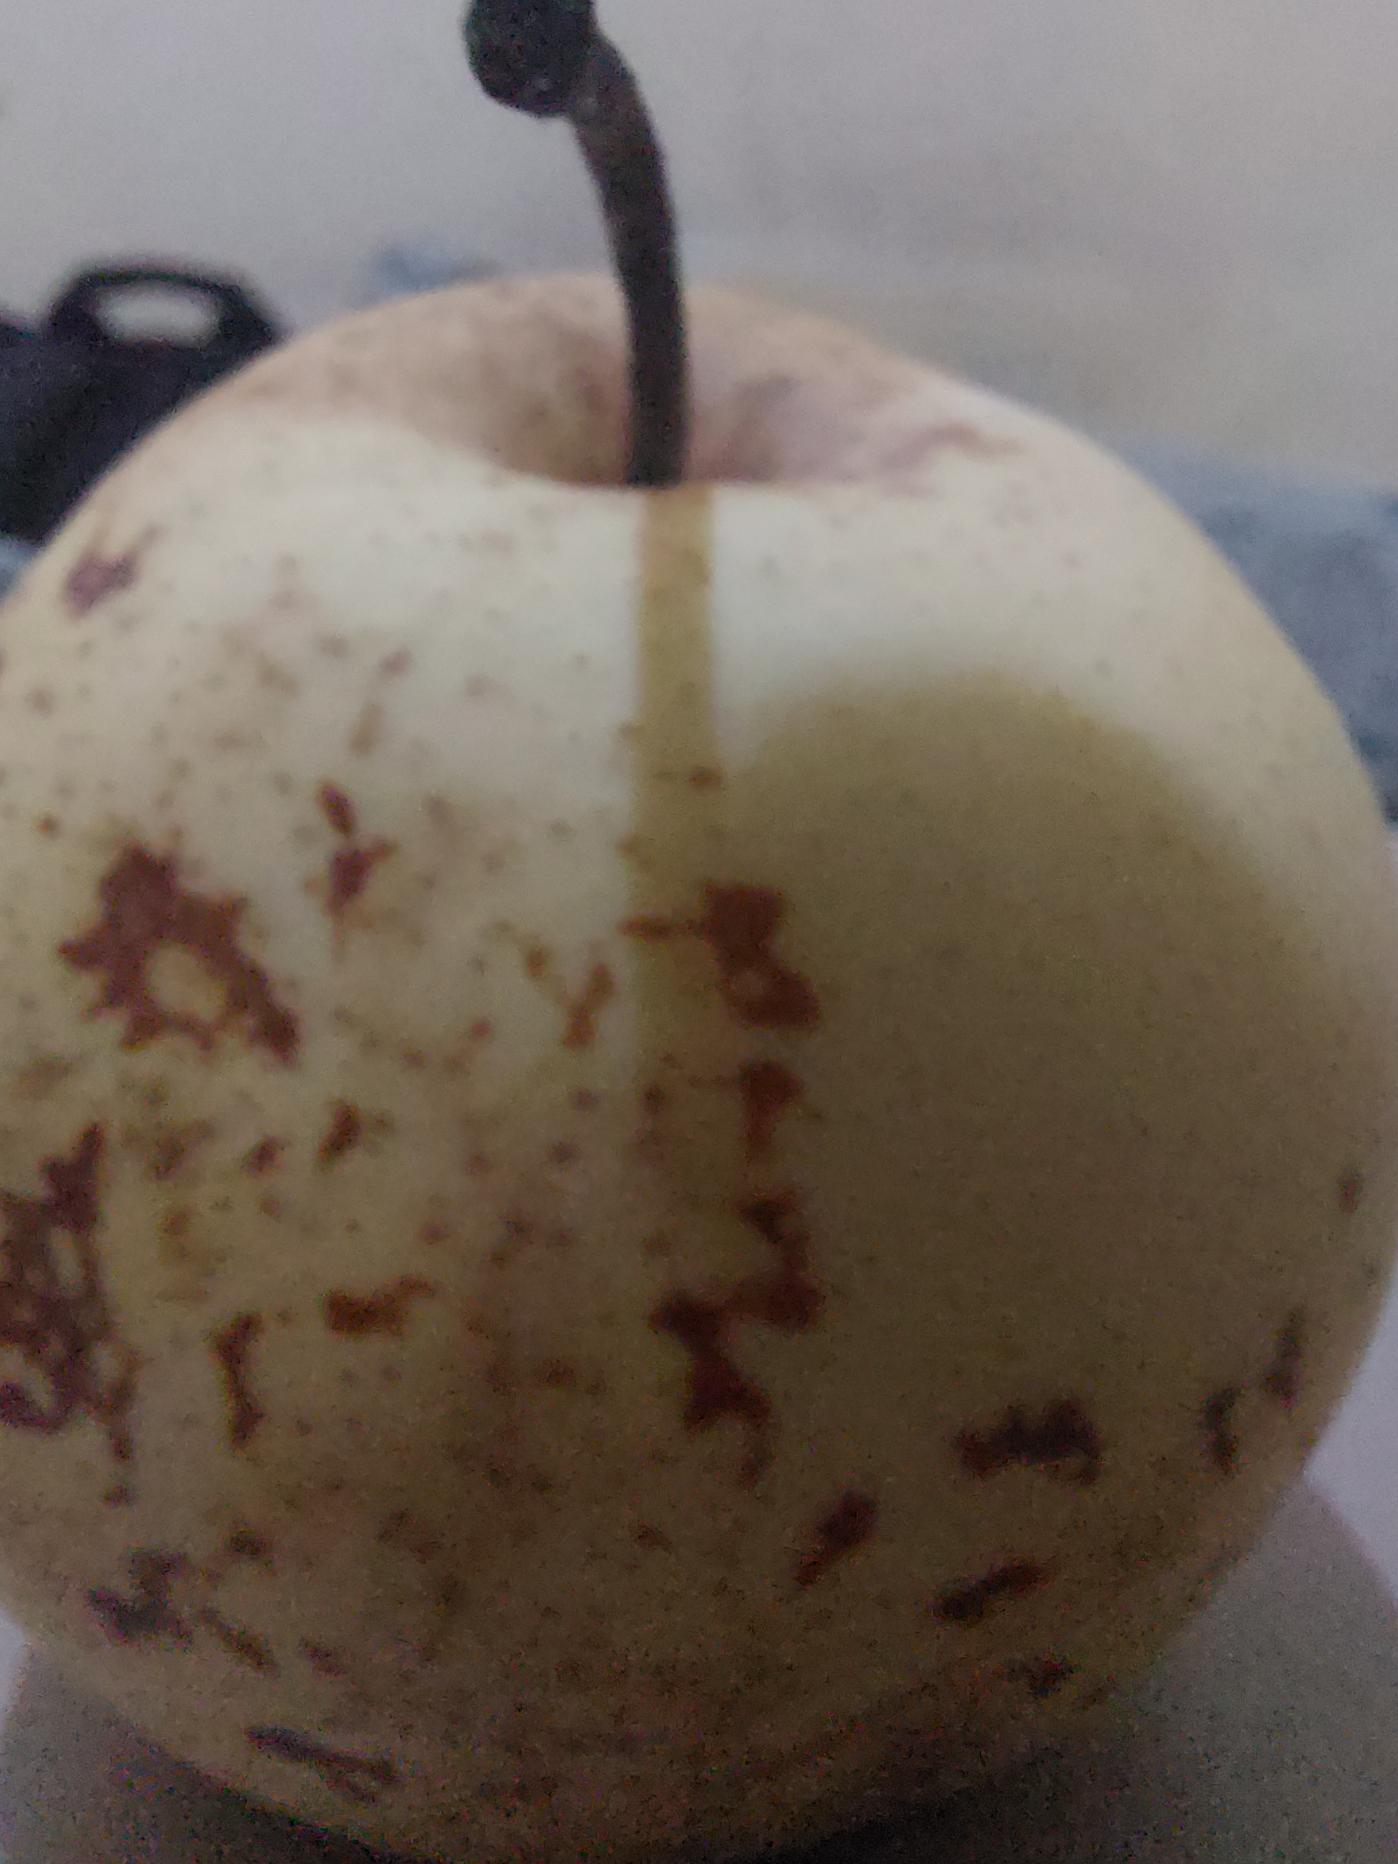Bad Pear: (0, 258, 1398, 1864)
